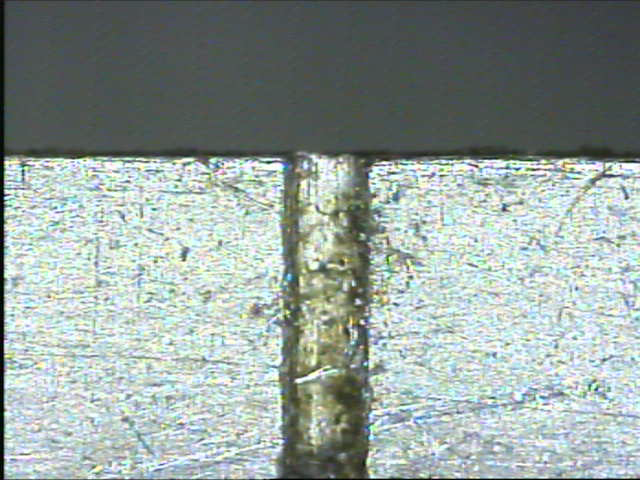line: (275, 156, 375, 477)
